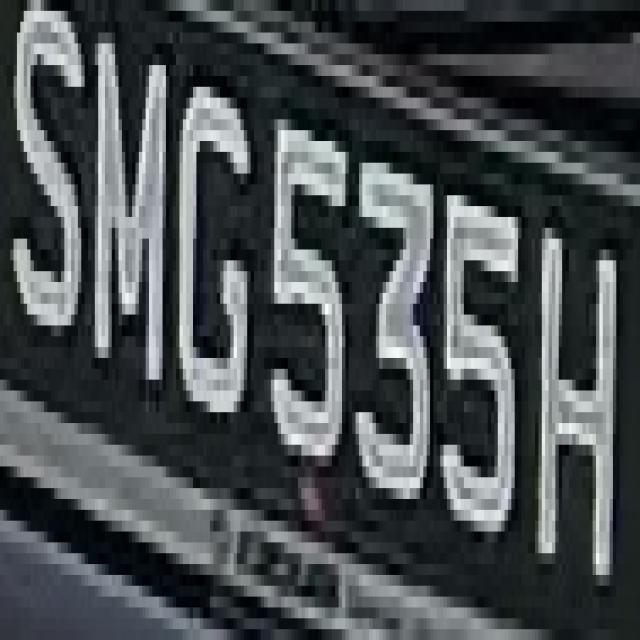3: (338, 108, 444, 542)
5: (434, 152, 528, 586), (260, 76, 356, 477)
G: (176, 55, 251, 478)
H: (525, 206, 620, 586)
M: (88, 0, 172, 401)
S: (14, 11, 84, 390)
